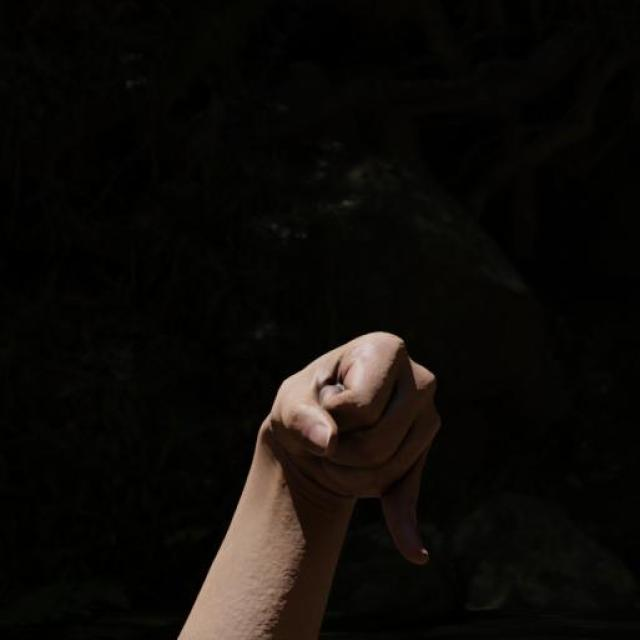J: (226, 308, 465, 597)
